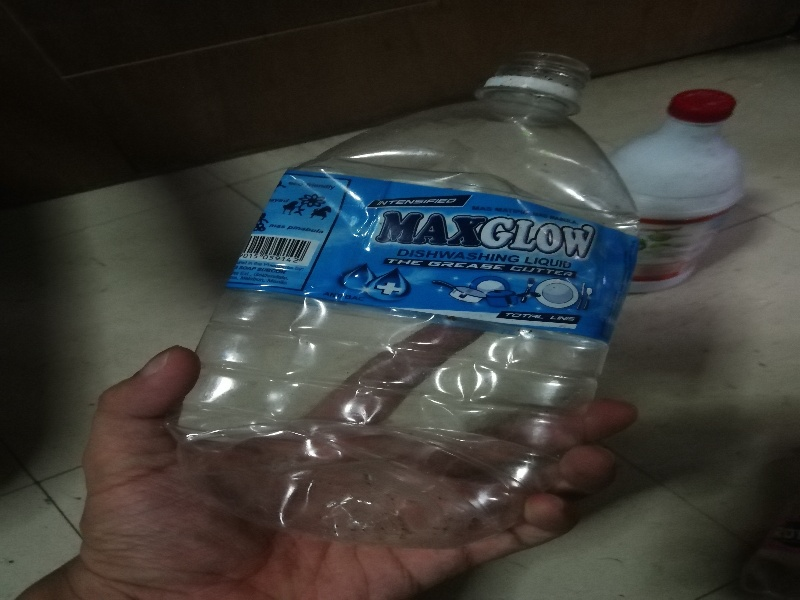HDPE #2: (603, 82, 740, 298)
PET #1: (164, 56, 639, 536)
